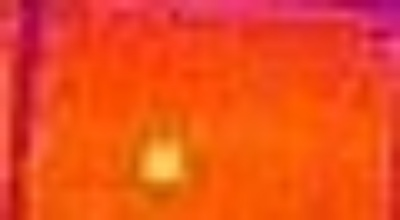Hotspot: (130, 128, 190, 186)
